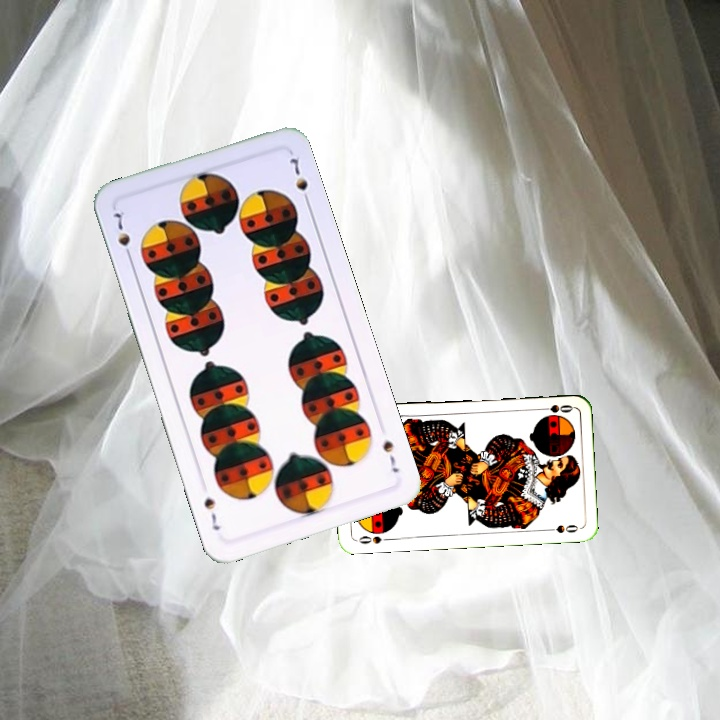S7: (110, 207, 135, 263), (378, 436, 402, 476)
SO: (535, 400, 575, 418), (355, 532, 393, 546)
